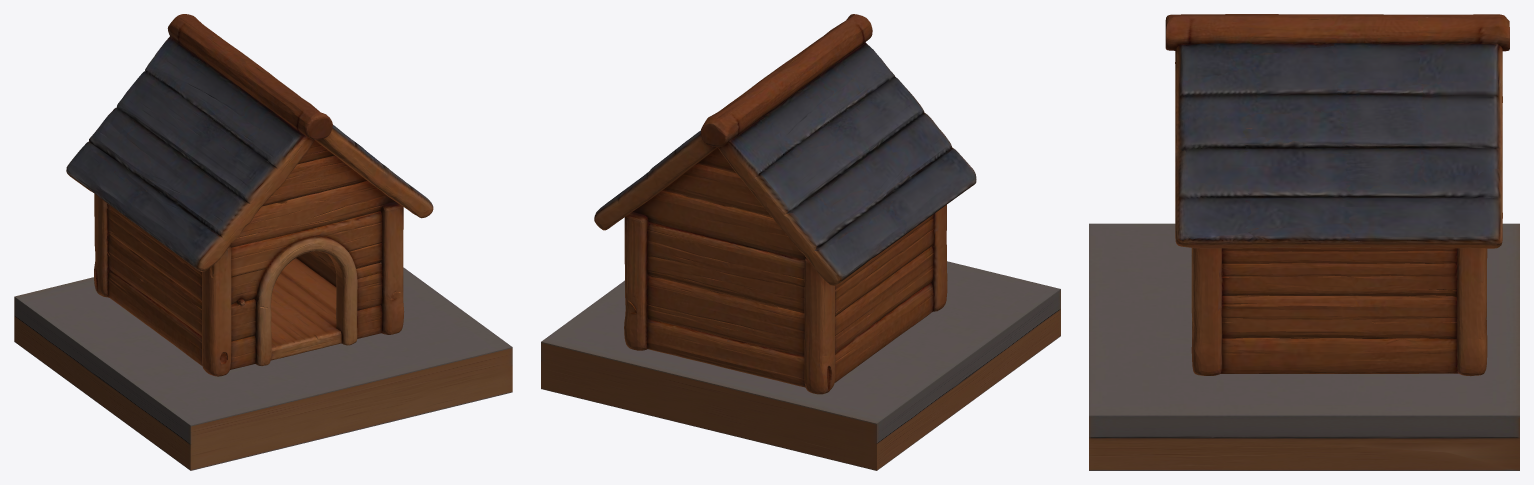
The model's file is DOM_budka_7__brown.glb.
3 views of the same model, side by side, from view 1: azimuth 30°, elevation 25°; view 2: azimuth 150°, elevation 25°; view 3: azimuth 270°, elevation 25° (orthographic). The views are drawn at different scales.
Visible parts, largest first — view 1: tripo_node_12152d5f-ba4f-4488-aab8-28f63a66d37c, Cube; view 2: tripo_node_12152d5f-ba4f-4488-aab8-28f63a66d37c, Cube; view 3: tripo_node_12152d5f-ba4f-4488-aab8-28f63a66d37c, Cube.
Part boxes in pixels (x1=…): tripo_node_12152d5f-ba4f-4488-aab8-28f63a66d37c: x1=66, y1=14, x2=433, y2=376; Cube: x1=14, y1=267, x2=512, y2=470; tripo_node_12152d5f-ba4f-4488-aab8-28f63a66d37c: x1=594, y1=14, x2=976, y2=394; Cube: x1=541, y1=261, x2=1060, y2=470; tripo_node_12152d5f-ba4f-4488-aab8-28f63a66d37c: x1=1165, y1=14, x2=1509, y2=376; Cube: x1=1089, y1=223, x2=1519, y2=470.
Size of the model in its own units: 3.3 by 2.88 by 3.13.
2 materials, 2 textured.
